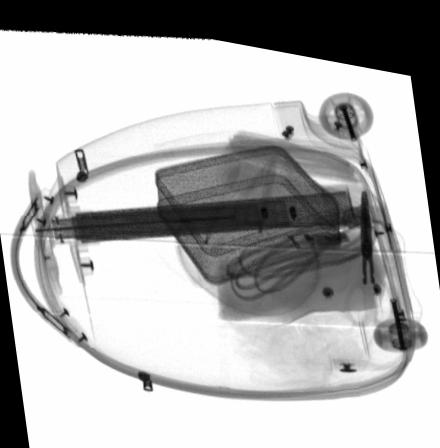Scissors: (343, 174, 397, 318)
